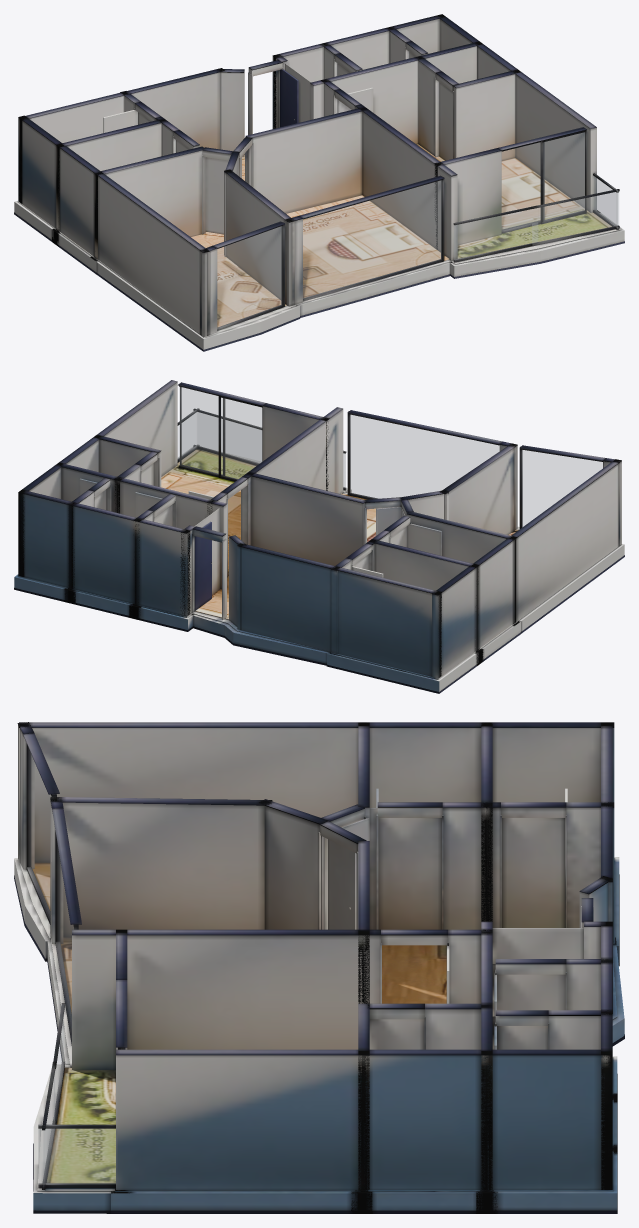
3 renders of one model, top to bottom at view 1: azimuth 30°, elevation 25°; view 2: azimuth 150°, elevation 25°; view 3: azimuth 270°, elevation 25°, orthographic. The views are drawn at different scales.
Visible parts, largest first — view 1: plan, glass1_m, glass2_m, glass0_m, railg1_m, railg2_m, railg0_m; view 2: plan, glass1_m, glass2_m, glass0_m, railg1_m, railg0_m; view 3: plan, railg0_m, glass0_m, glass1_m.
Part boxes in pixels (x1,y1,x2,y2): plan: (14, 14, 624, 351); glass1_m: (303, 180, 441, 298); glass2_m: (502, 132, 584, 230); glass0_m: (217, 226, 281, 327); railg1_m: (532, 192, 618, 243); railg2_m: (454, 208, 537, 259); railg0_m: (594, 176, 617, 226); plan: (14, 380, 624, 693); glass1_m: (350, 415, 499, 498); glass2_m: (179, 387, 261, 478); glass0_m: (522, 450, 602, 526); railg1_m: (197, 412, 261, 463); railg0_m: (178, 413, 196, 459); plan: (14, 722, 624, 1213); railg0_m: (38, 1129, 115, 1183); glass0_m: (29, 750, 51, 915); glass1_m: (58, 851, 73, 1027).
Bounding box in the file's own units: 12.05 × 2.62 × 9.24.
Materials: 2 (1 with a texture image).
